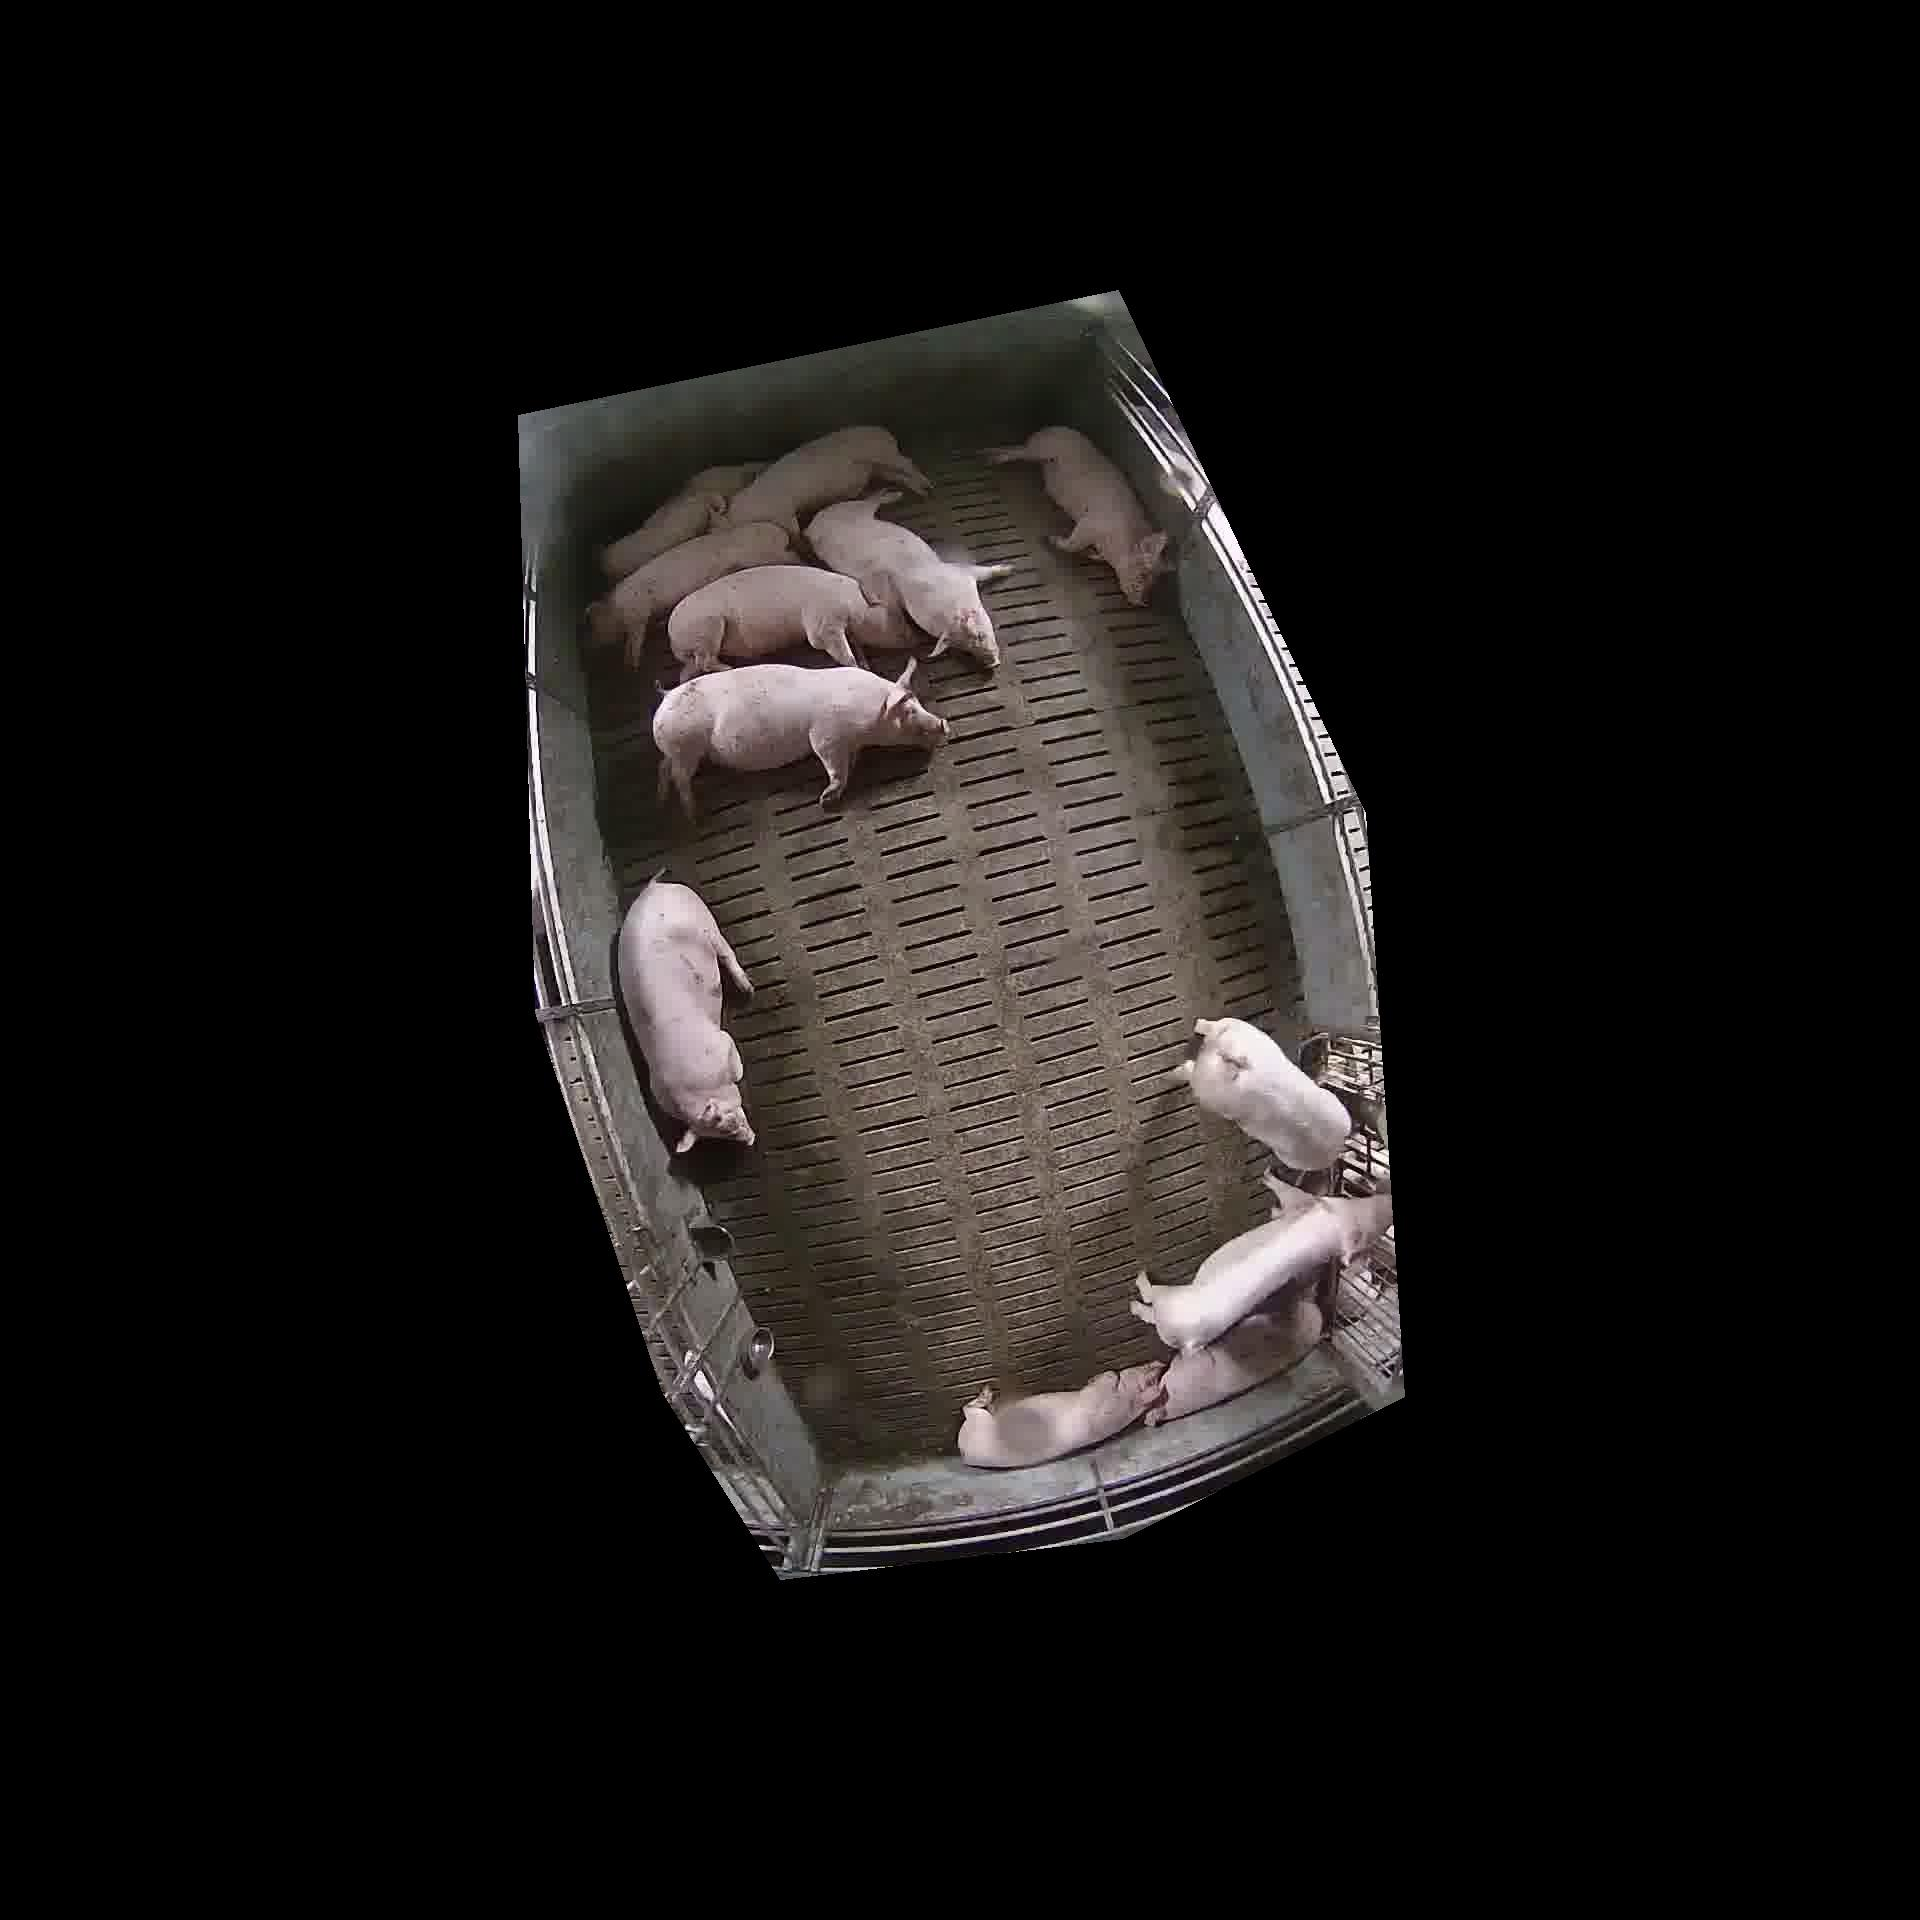pig: (654, 659, 948, 816), (1131, 1182, 1387, 1349), (617, 879, 754, 1152), (805, 492, 1009, 666), (986, 425, 1167, 605), (587, 522, 796, 666), (666, 564, 905, 679), (1176, 1018, 1350, 1169), (1146, 1285, 1322, 1422), (721, 425, 930, 538), (958, 1363, 1162, 1466), (600, 462, 763, 580)
